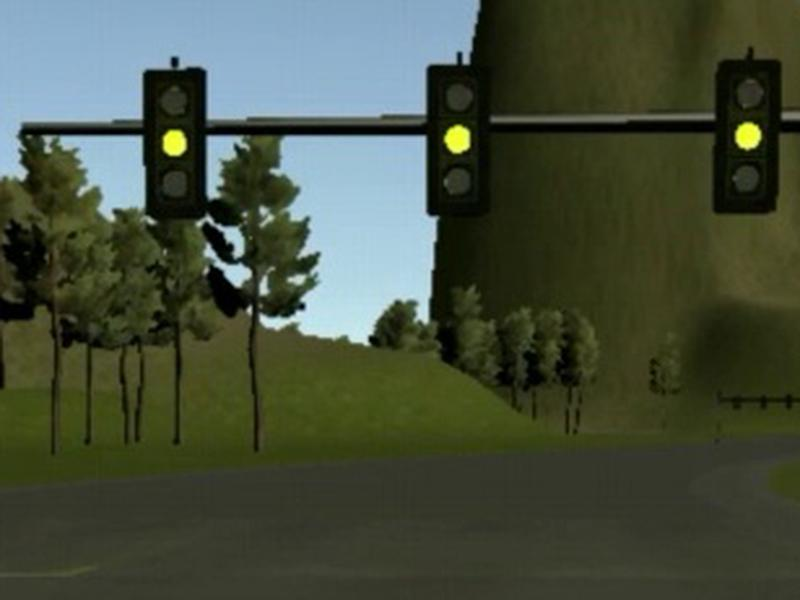Yellow: (712, 59, 781, 214), (142, 67, 208, 221), (425, 65, 490, 216)
